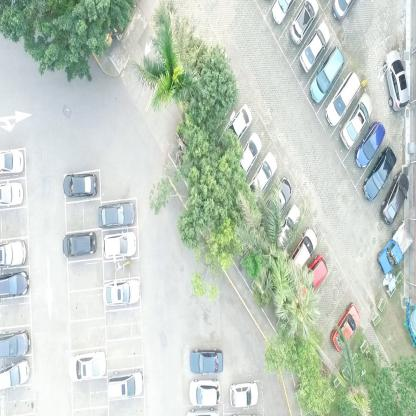car: (325, 71, 361, 128), (339, 91, 373, 151), (310, 46, 345, 104), (362, 146, 396, 203), (298, 19, 332, 73), (376, 225, 412, 274), (284, 229, 318, 280), (246, 152, 280, 203), (383, 47, 409, 112), (296, 254, 328, 306), (262, 178, 293, 230), (354, 120, 386, 169), (379, 172, 409, 224), (272, 202, 302, 254), (329, 302, 360, 350), (289, 0, 320, 48), (223, 103, 253, 150), (234, 132, 262, 179), (107, 367, 145, 401), (69, 348, 107, 382), (102, 276, 140, 308), (0, 358, 31, 392), (98, 201, 135, 229), (0, 327, 31, 360), (103, 230, 137, 260), (188, 347, 224, 375), (189, 377, 221, 408), (0, 266, 29, 300), (62, 230, 95, 258), (0, 238, 28, 271), (63, 171, 97, 198), (228, 379, 258, 408), (0, 148, 24, 177), (0, 180, 25, 207), (271, 0, 294, 29), (331, 0, 359, 22)
